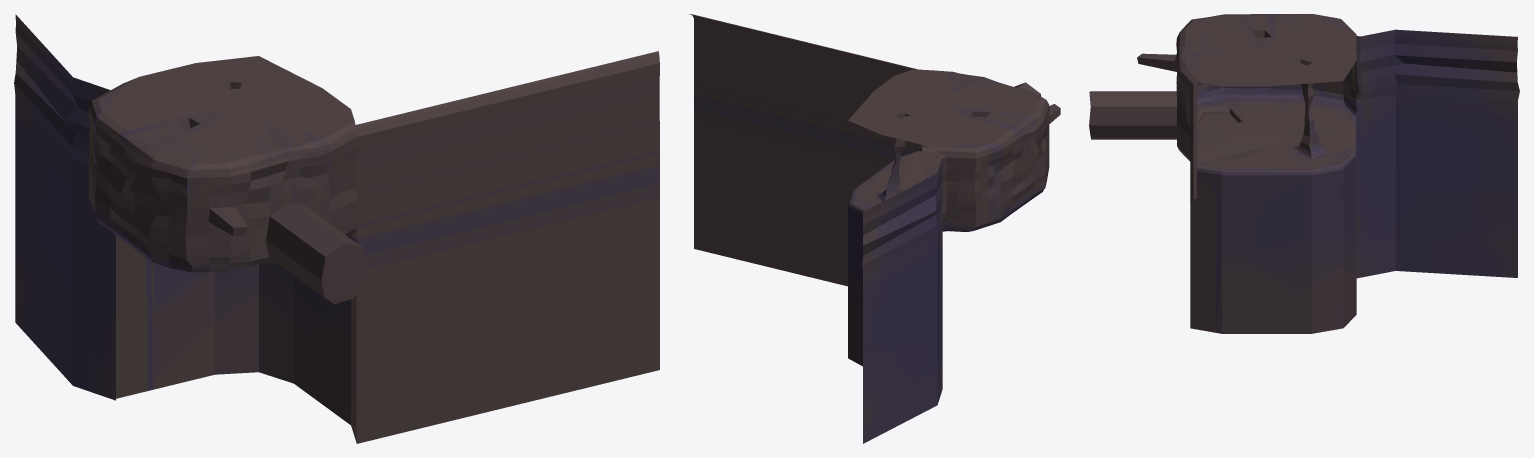
The model's file is CaveMesh.fbx.
The picture shows the model from 3 angles, left to right: view 1: azimuth 30°, elevation 25°; view 2: azimuth 150°, elevation 25°; view 3: azimuth 270°, elevation 25°; orthographic projection. The views are drawn at different scales.
Visible parts, largest first — view 1: Cave_Sub; view 2: Cave_Sub; view 3: Cave_Sub.
Part boxes in pixels (x1,y1,x2,y2): Cave_Sub: (14, 14, 659, 443); Cave_Sub: (689, 14, 1060, 443); Cave_Sub: (1089, 14, 1519, 333).
Size of the model in its own units: 28323 by 17343 by 27178.
1 material, 1 textured.
